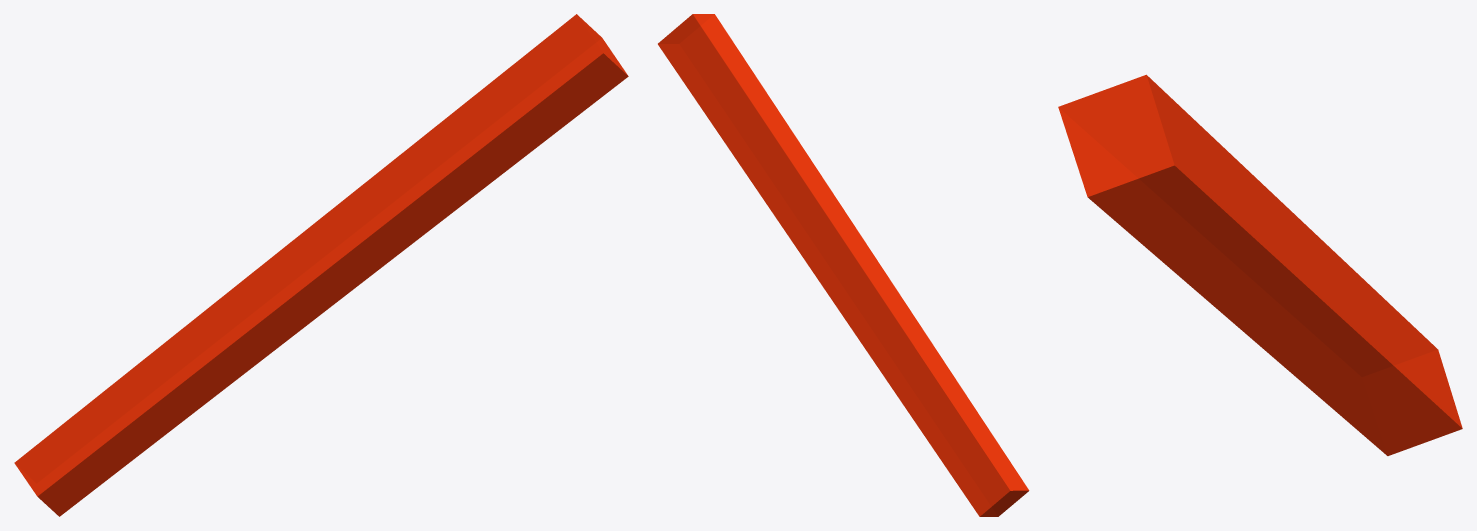
File: Event_421364160_EBrechit_28.fbx
The picture shows the model from 3 angles, left to right: view 1: azimuth 30°, elevation 25°; view 2: azimuth 150°, elevation 25°; view 3: azimuth 270°, elevation 25°; orthographic projection. The views are drawn at different scales.
Parts seen in each view (by area): view 1: Model; view 2: Model; view 3: Model.
Part boxes in pixels (box(x1,y1,x2,y2)): Model: box(14, 14, 628, 516); Model: box(658, 14, 1029, 516); Model: box(1058, 74, 1462, 455).
Bounding box in the file's own units: 0.661 × 0.5571 × 0.2765.
